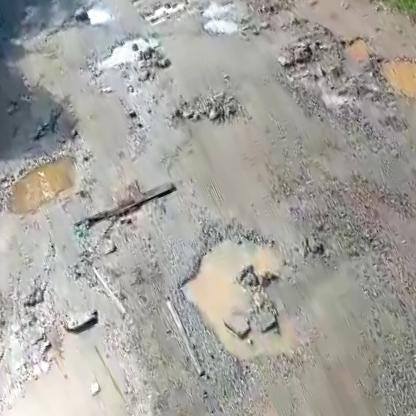pothole: (159, 211, 314, 381), (0, 322, 216, 416), (268, 5, 378, 102), (61, 175, 185, 254), (0, 141, 93, 230), (166, 77, 251, 144), (86, 25, 164, 82), (374, 40, 416, 113), (193, 0, 244, 43)
